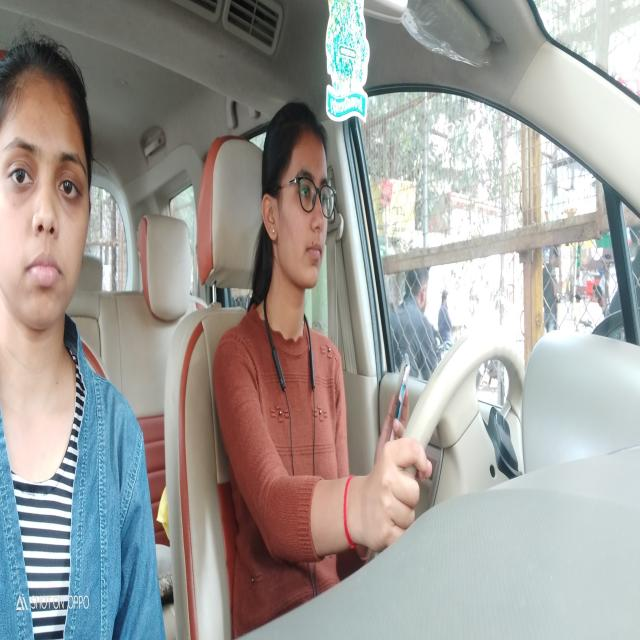mobile: (386, 347, 419, 448)
person: (0, 38, 95, 339), (258, 98, 336, 300)
